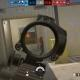Character: (39, 36, 44, 55)
